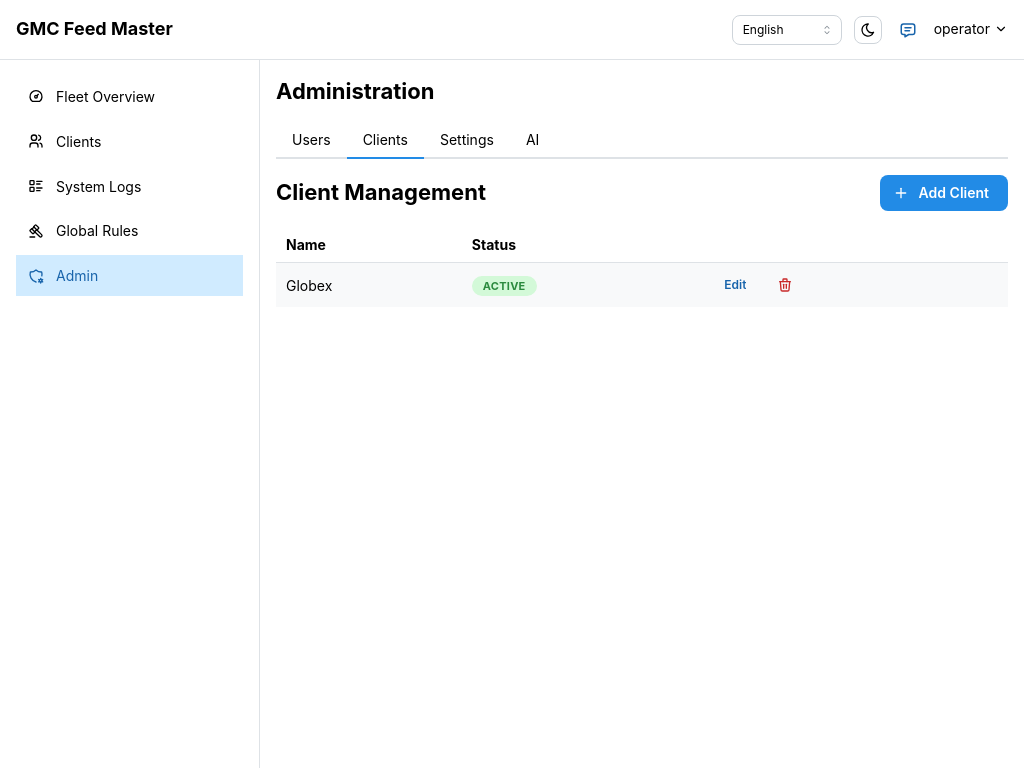
AdminClientsPage › lists clients and deletes with type-to-confirm
Expected: the text "Globex" is shown, [276,263,462,308]
Click the button named "Delete client" at (785, 286), box [771,272,799,300]
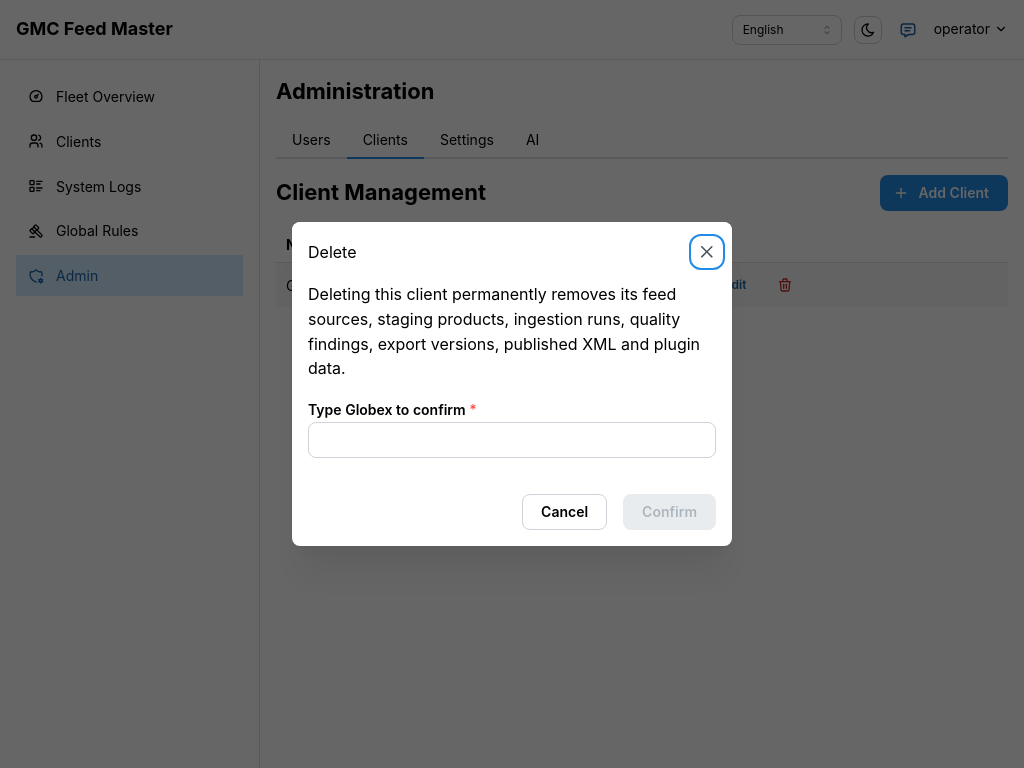
Now the button "Confirm" is disabled, box [623,494,716,530]
Type "Globex" into the field labelled "Type Globex to confirm *" at (512, 440), box [308,422,716,458]
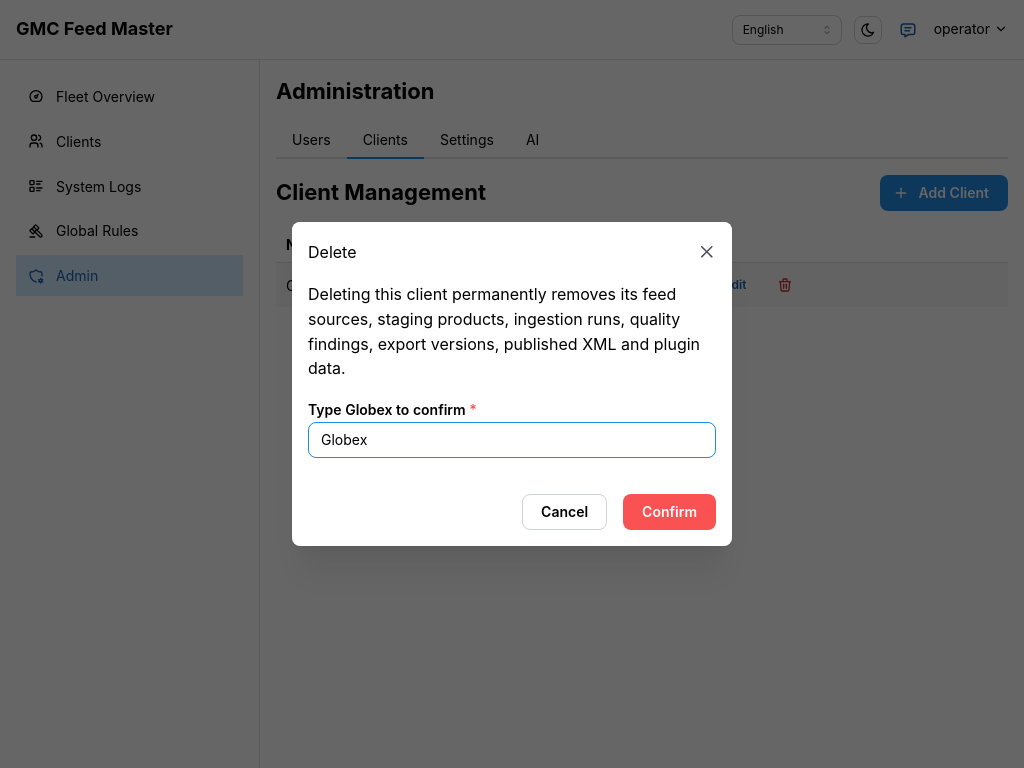
Now the button "Confirm" is enabled
Click the button "Confirm" at (670, 512), box [623,494,716,530]
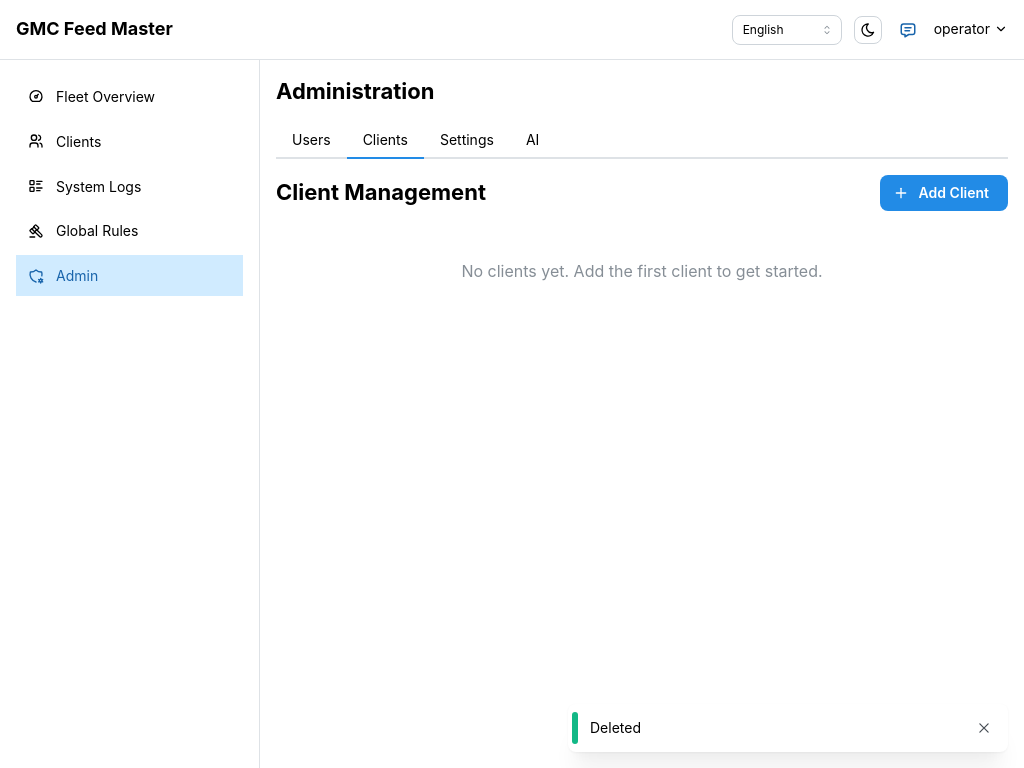
Now the text "Globex" is gone
